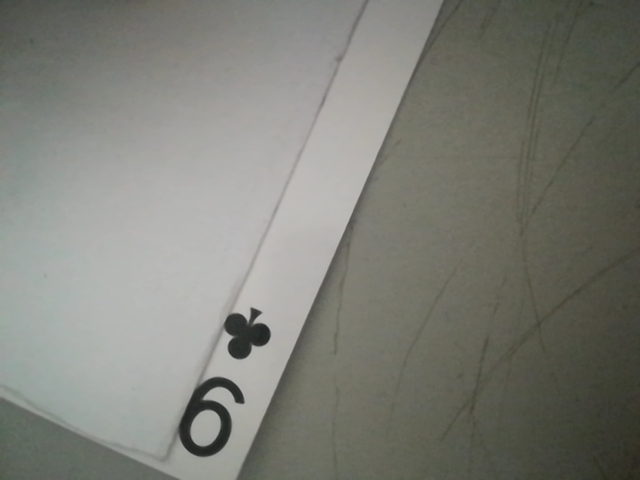mh 9: (160, 299, 281, 475)
